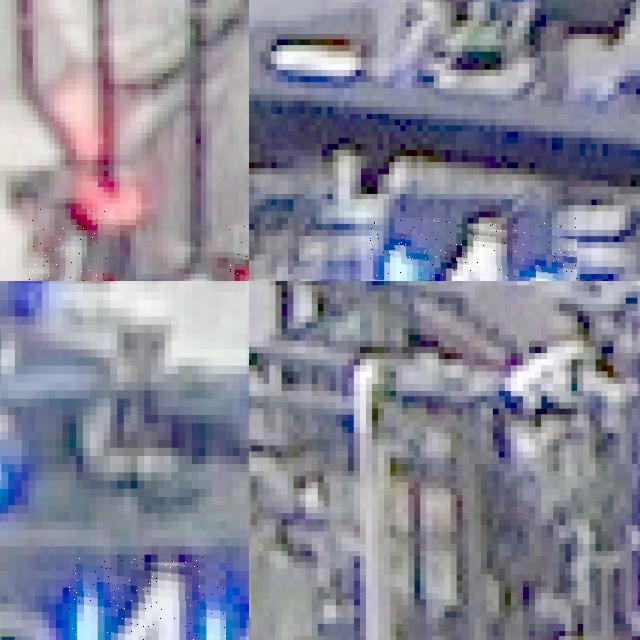B4: (69, 554, 225, 640), (369, 217, 576, 281)
R1: (27, 208, 114, 281)
